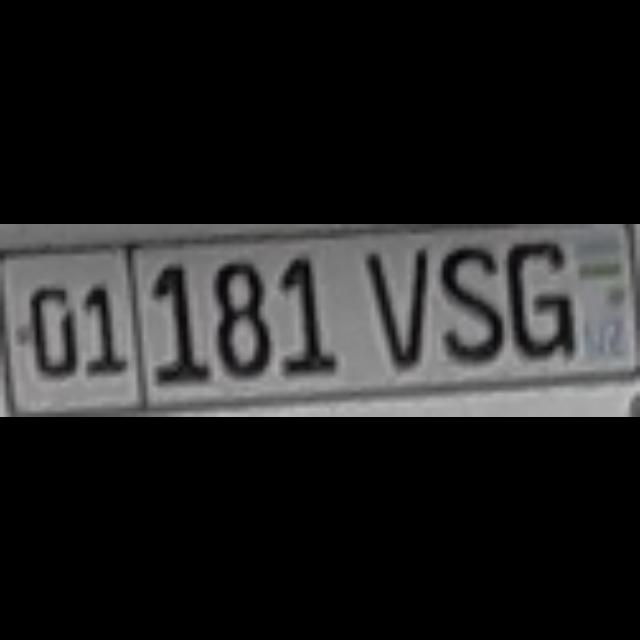0: (20, 280, 66, 370)
1: (142, 253, 204, 375), (274, 248, 330, 366), (76, 280, 122, 370)
8: (203, 248, 264, 370)
G: (498, 233, 568, 355)
S: (432, 238, 498, 356)
V: (356, 243, 422, 365)
